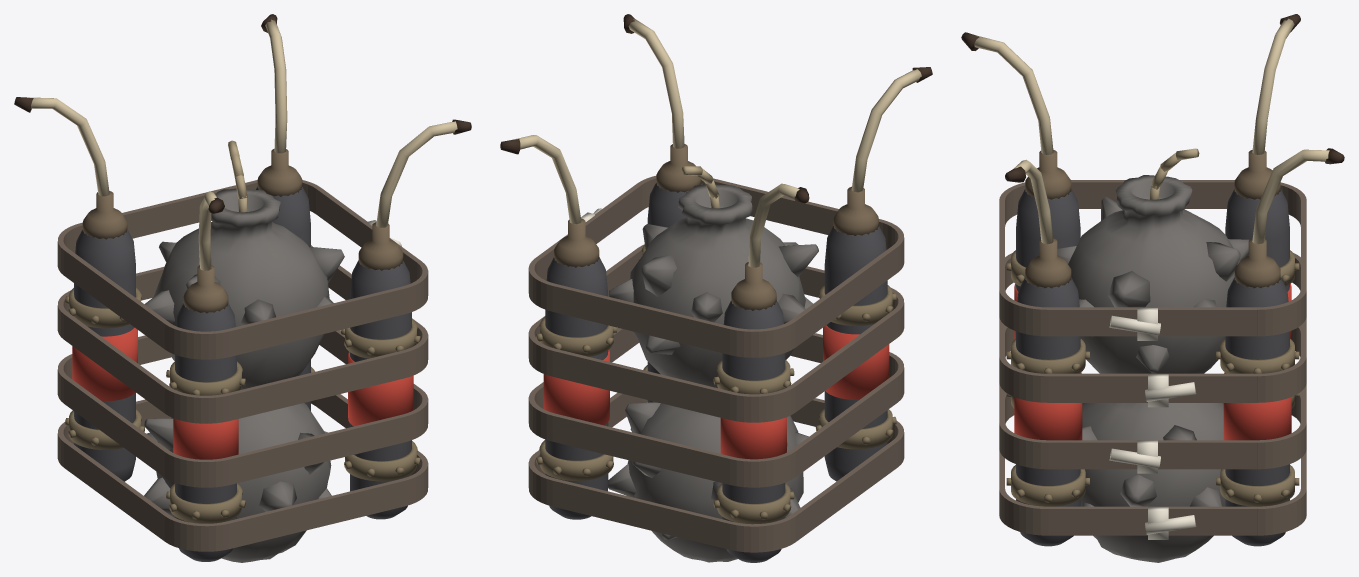
The model's file is DeepNorthPack.fbx.
3 views of the same model, side by side, from view 1: azimuth 30°, elevation 25°; view 2: azimuth 150°, elevation 25°; view 3: azimuth 270°, elevation 25° (orthographic). The views are drawn at different scales.
Parts seen in each view (by area): view 1: pack_straps, pack_grenade_high_body, pack_grenade_low_body, pack_dyn2_casing, pack_dyn3_casing, pack_dyn4_casing, pack_dyn4_bands, pack_dyn3_bands, pack_dyn4_marking, pack_dyn3_marking, pack_dyn2_marking, pack_dyn2_bands (+10 smaller); view 2: pack_straps, pack_grenade_high_body, pack_grenade_low_body, pack_dyn3_casing, pack_dyn2_casing, pack_dyn1_casing, pack_dyn1_bands, pack_dyn2_bands, pack_dyn1_marking, pack_dyn2_marking, pack_dyn3_bands, pack_dyn3_marking (+10 smaller); view 3: pack_straps, pack_grenade_high_body, pack_grenade_low_body, pack_toggles, pack_dyn1_casing, pack_dyn4_casing, pack_dyn1_bands, pack_dyn4_bands, pack_dyn3_casing, pack_dyn2_casing, pack_dyn1_marking, pack_dyn4_marking (+9 smaller).
Part boxes in pixels (<box>): pack_straps: <box>57,180,428,551</box>; pack_grenade_high_body: <box>144,189,344,389</box>; pack_grenade_low_body: <box>144,403,331,562</box>; pack_dyn2_casing: <box>74,229,135,481</box>; pack_dyn3_casing: <box>175,303,236,561</box>; pack_dyn4_casing: <box>350,260,411,519</box>; pack_dyn4_bands: <box>341,319,420,481</box>; pack_dyn3_bands: <box>166,361,245,523</box>; pack_dyn4_marking: <box>348,352,413,426</box>; pack_dyn3_marking: <box>173,418,238,459</box>; pack_dyn2_marking: <box>72,327,137,401</box>; pack_dyn2_bands: <box>65,287,144,449</box>; pack_straps: <box>528,176,904,552</box>; pack_grenade_high_body: <box>608,184,818,388</box>; pack_grenade_low_body: <box>608,401,808,562</box>; pack_dyn3_casing: <box>824,226,887,481</box>; pack_dyn2_casing: <box>722,300,785,562</box>; pack_dyn1_casing: <box>545,257,608,519</box>; pack_dyn1_bands: <box>536,316,617,480</box>; pack_dyn2_bands: <box>713,360,794,524</box>; pack_dyn1_marking: <box>543,350,609,425</box>; pack_dyn2_marking: <box>720,417,786,459</box>; pack_dyn3_bands: <box>815,285,896,449</box>; pack_dyn3_marking: <box>823,325,889,399</box>; pack_straps: <box>999,180,1306,535</box>; pack_grenade_high_body: <box>1057,175,1248,373</box>; pack_grenade_low_body: <box>1080,403,1225,562</box>; pack_toggles: <box>1109,308,1196,539</box>; pack_dyn1_casing: <box>1225,277,1289,546</box>; pack_dyn4_casing: <box>1016,277,1080,546</box>; pack_dyn1_bands: <box>1216,339,1299,506</box>; pack_dyn4_bands: <box>1006,339,1089,506</box>; pack_dyn3_casing: <box>1016,189,1080,291</box>; pack_dyn2_casing: <box>1225,189,1289,291</box>; pack_dyn1_marking: <box>1223,372,1291,440</box>; pack_dyn4_marking: <box>1014,372,1082,440</box>.
Bounding box in the file's own units: 0.2615 × 0.3397 × 0.2615.
